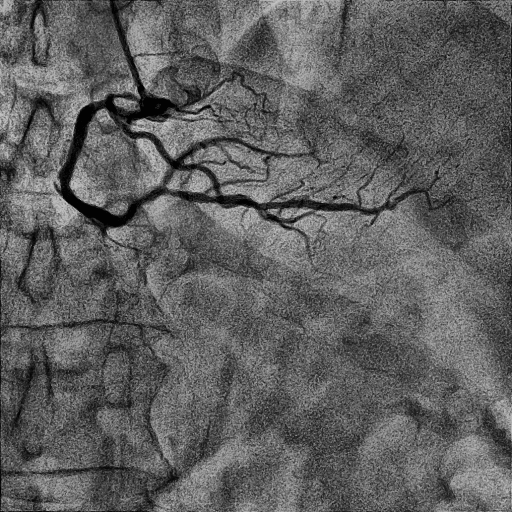pborca: (161, 137, 304, 187)
pda: (166, 188, 432, 215)
rca: (58, 101, 167, 228)
